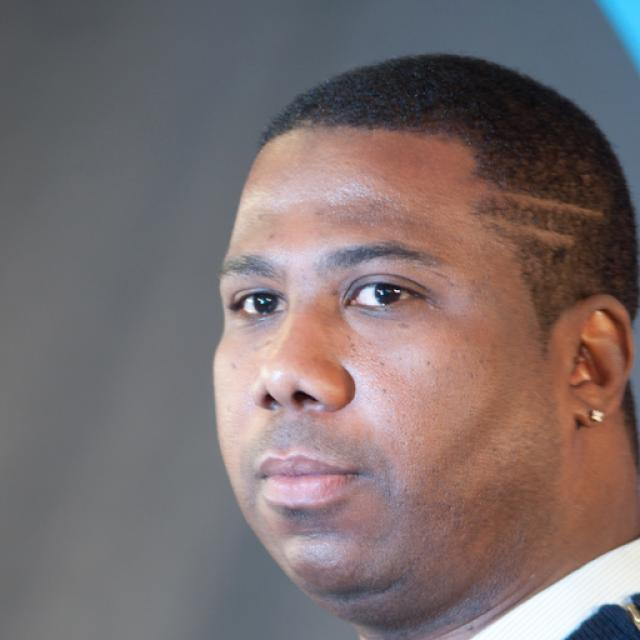neutral: (212, 122, 558, 628)
